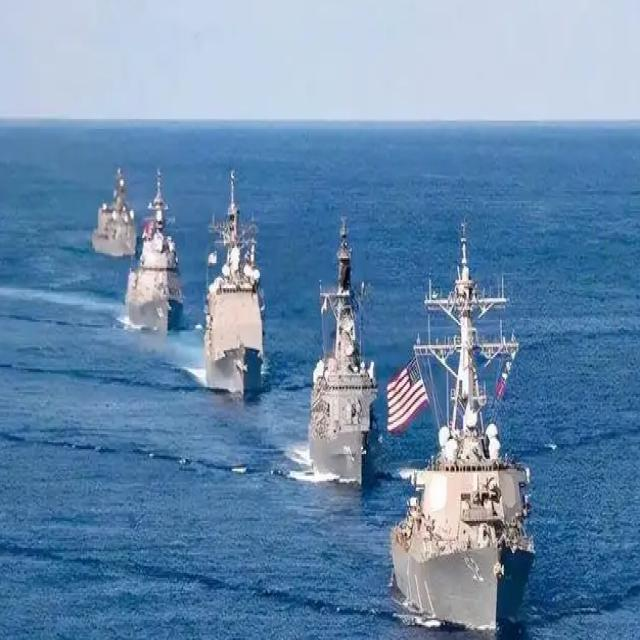navalvessels: (387, 214, 539, 634), (304, 214, 379, 490), (201, 169, 269, 401), (126, 168, 185, 336), (90, 163, 139, 258)
